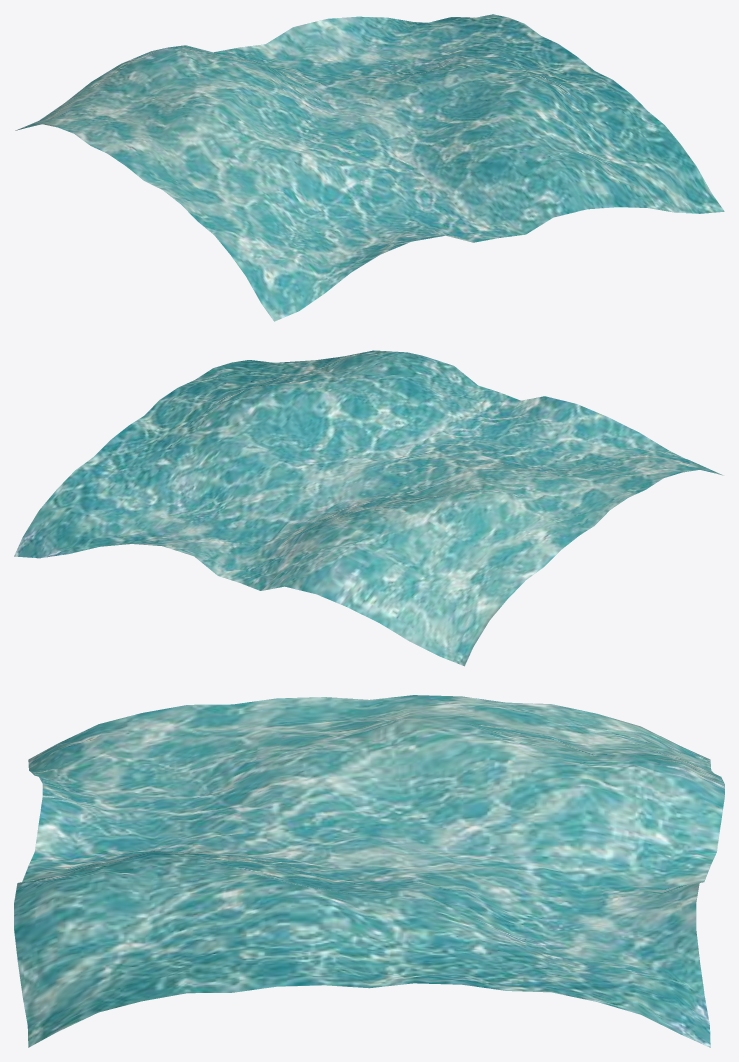
File: water_000103.obj
The picture shows the model from 3 angles, top to bottom: view 1: azimuth 30°, elevation 25°; view 2: azimuth 150°, elevation 25°; view 3: azimuth 270°, elevation 25°; orthographic projection. The views are drawn at different scales.
Visible parts, largest first — view 1: Plan.003_Plan.001; view 2: Plan.003_Plan.001; view 3: Plan.003_Plan.001.
Part boxes in pixels (left/top/right/bottom): Plan.003_Plan.001: left=15, top=14, right=724, bottom=321; Plan.003_Plan.001: left=14, top=350, right=723, bottom=666; Plan.003_Plan.001: left=14, top=695, right=724, bottom=1047.
Size of the model in its own units: 60925 by 9023 by 62875.
1 material, 1 textured.
